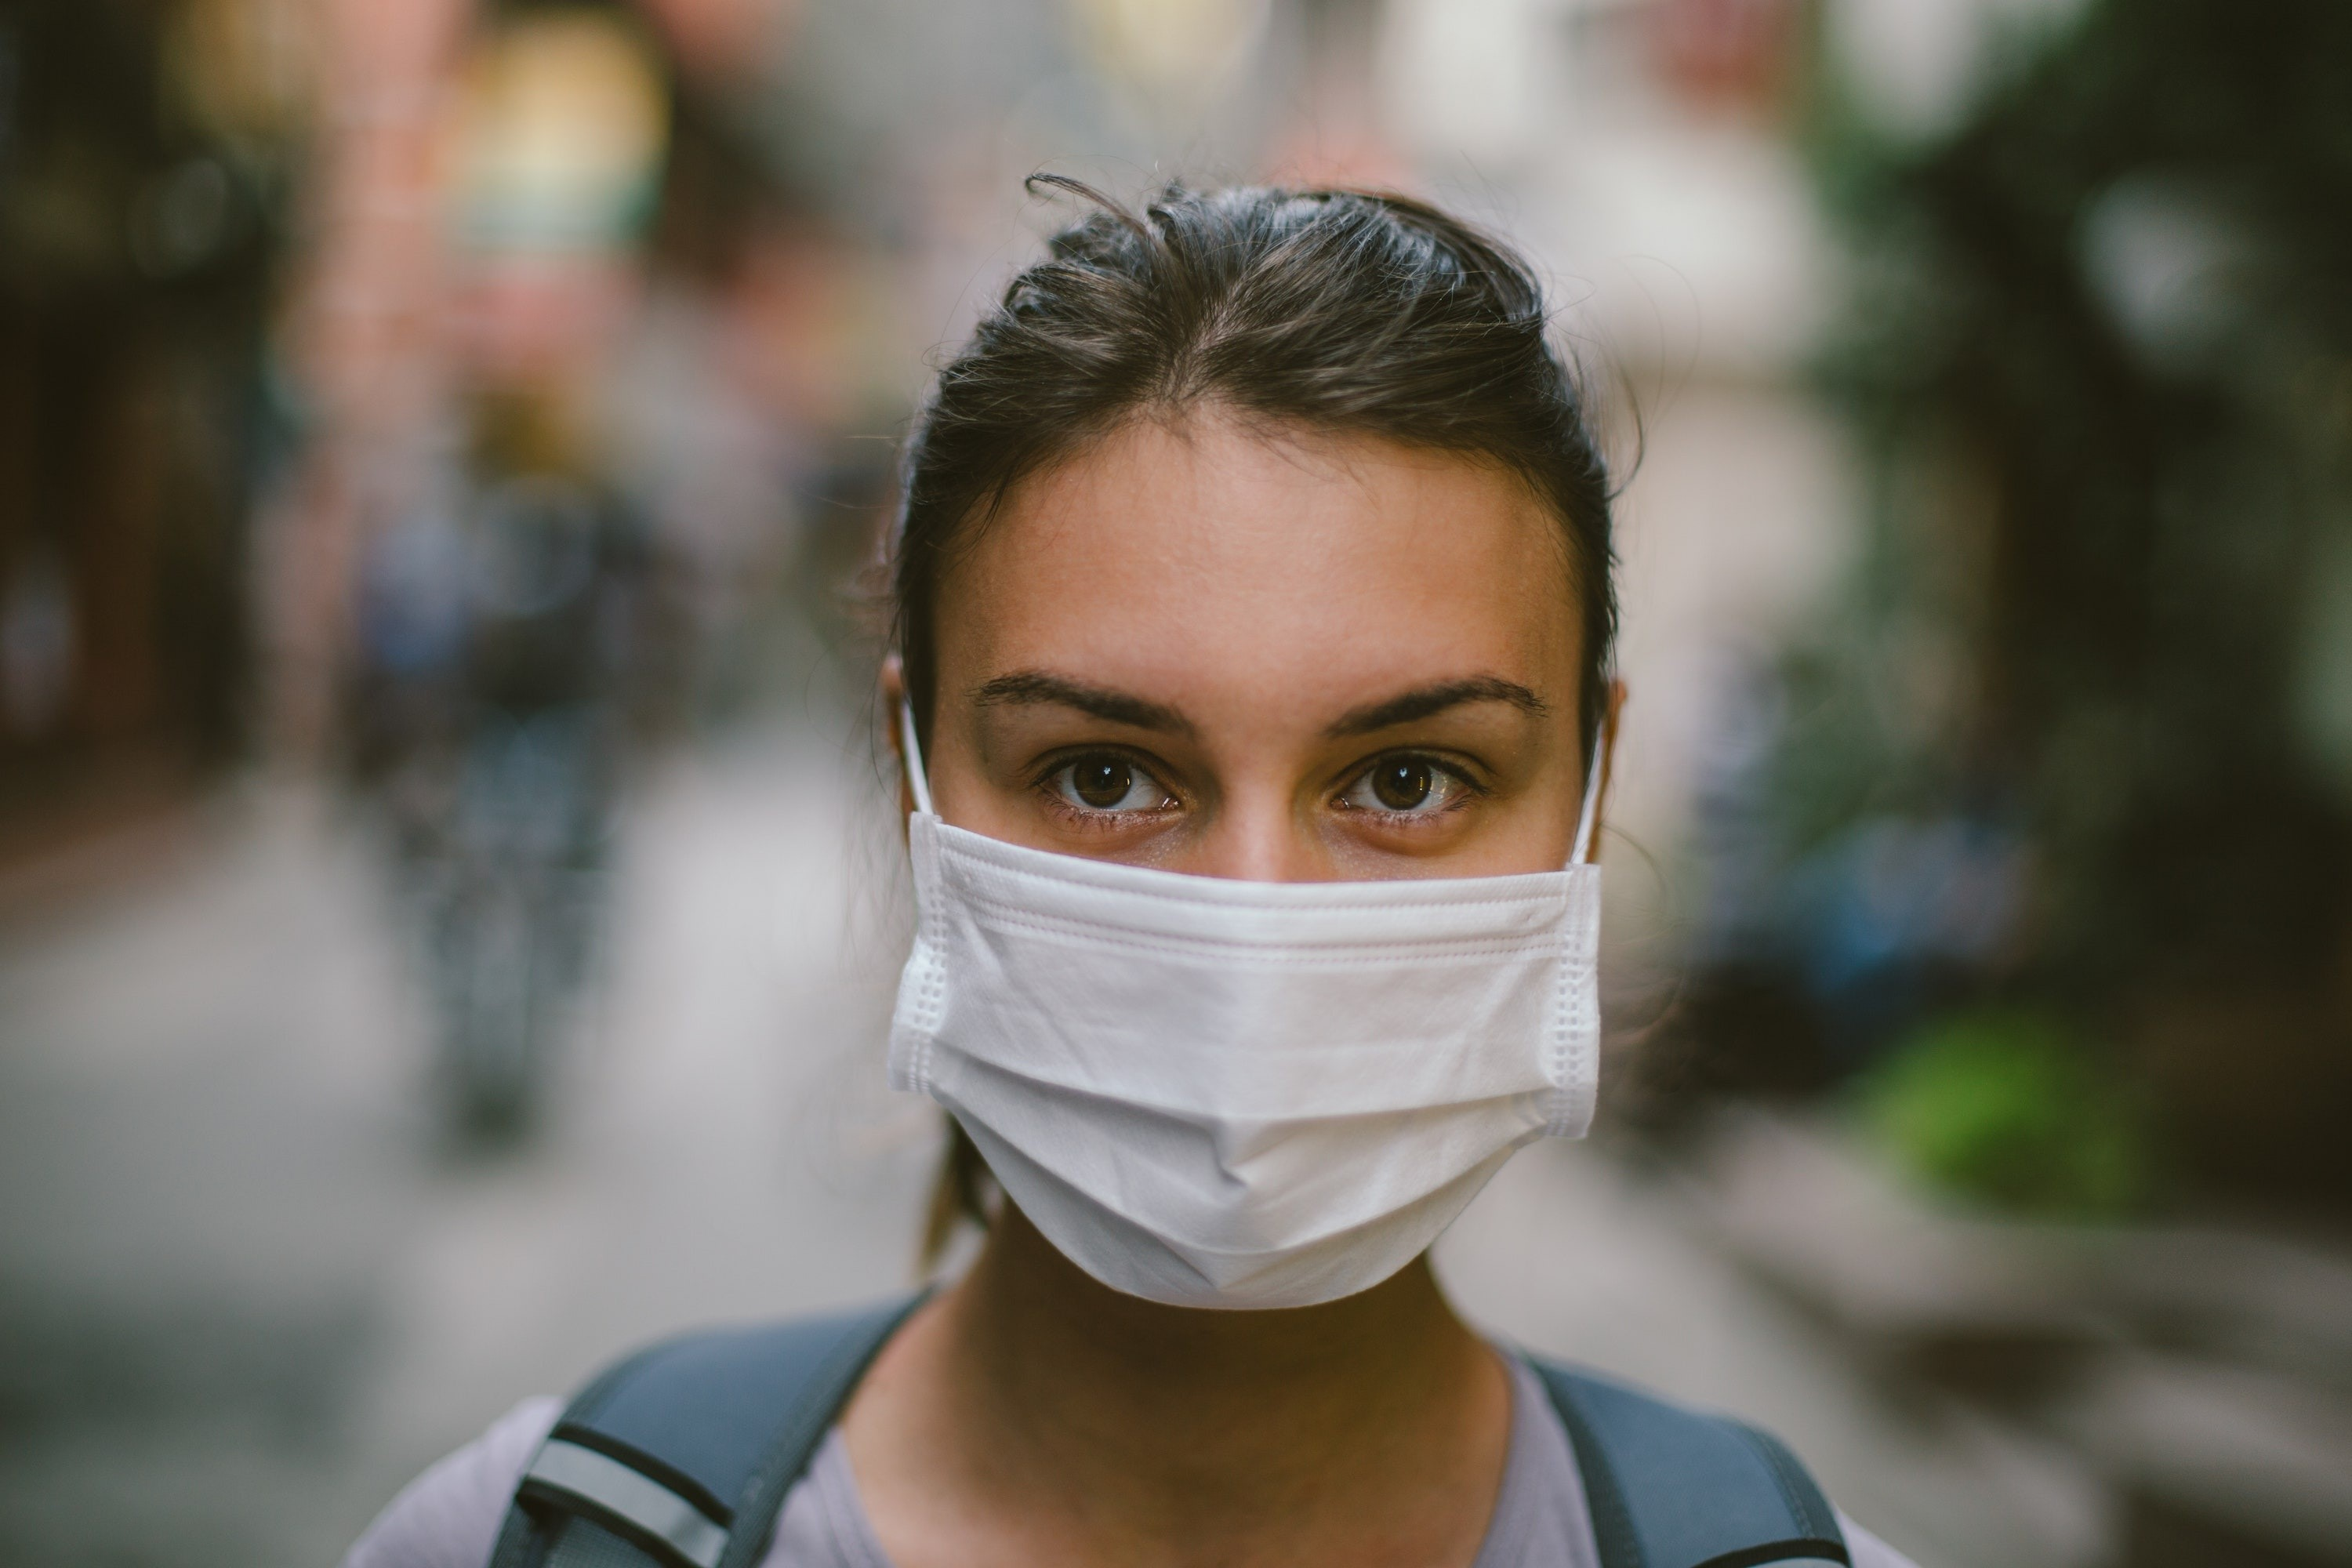face_with_mask: (855, 307, 1665, 1375)
